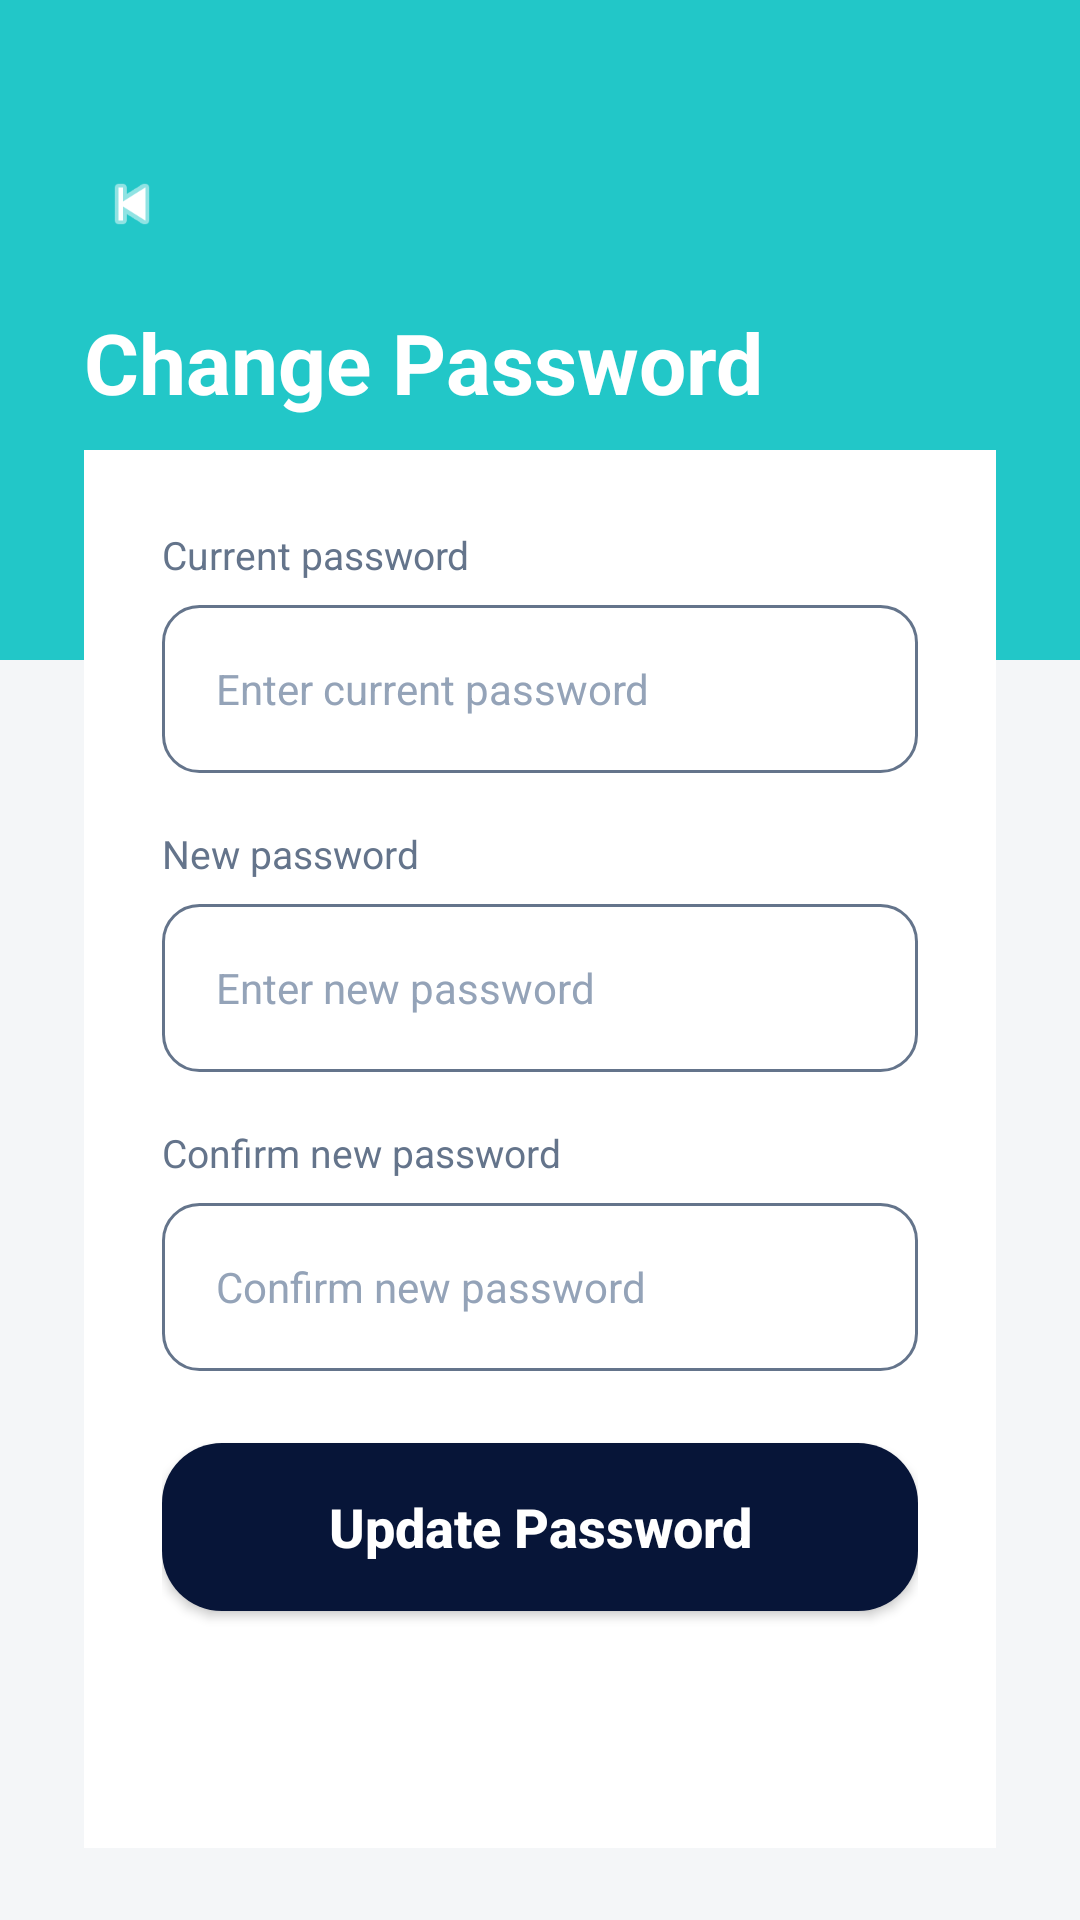

Icons on this 1080x1920 Android screen, each with the point to tap as (x,y):
Back: (132,204)
